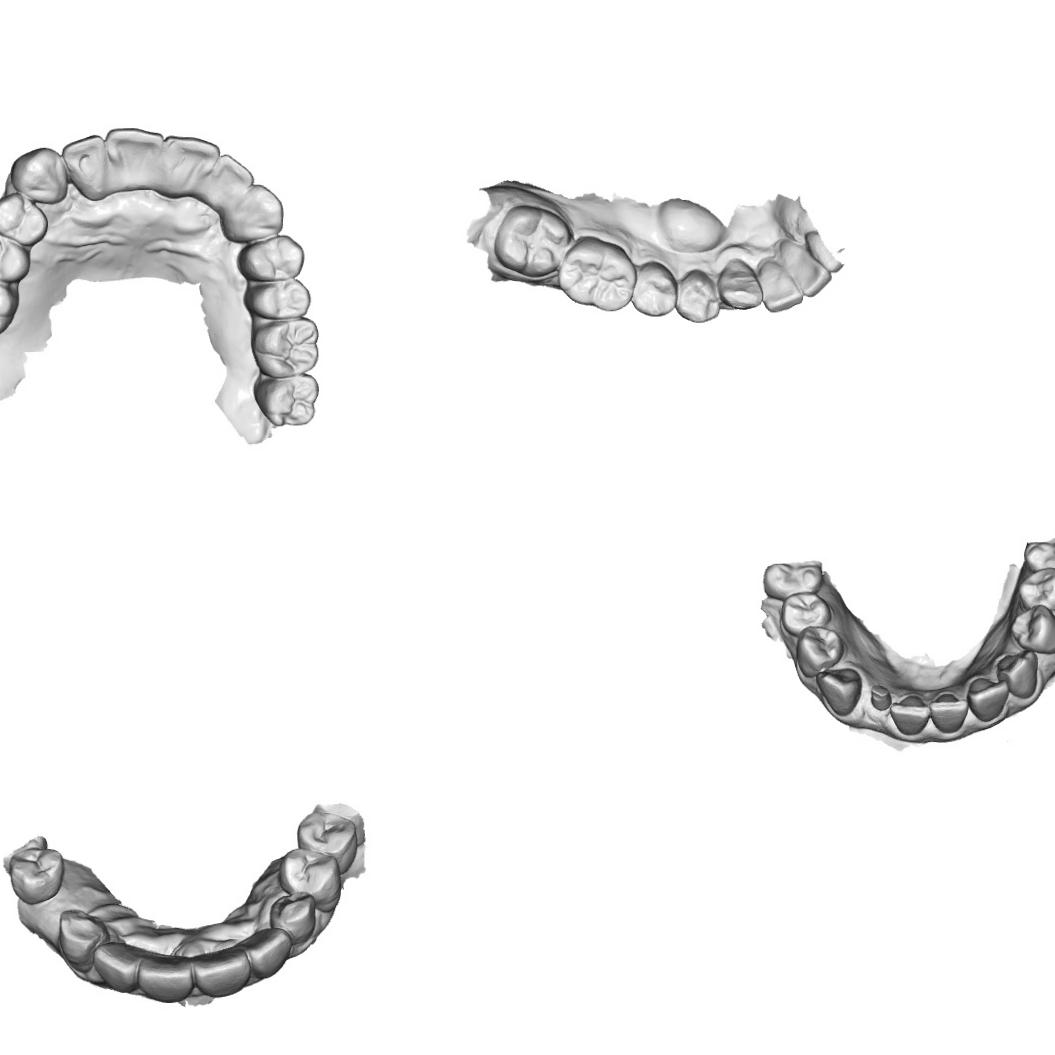abutment: (866, 681, 894, 714)
canine: (8, 145, 68, 206), (54, 907, 107, 968), (266, 892, 318, 948), (813, 664, 866, 718), (234, 182, 284, 238), (993, 648, 1042, 702), (717, 256, 764, 312)
incisor: (104, 124, 165, 192), (163, 132, 221, 199), (134, 947, 196, 1005), (236, 926, 294, 984), (192, 944, 252, 1000), (778, 243, 834, 301), (60, 134, 107, 202), (92, 938, 144, 996), (885, 685, 936, 742), (758, 256, 804, 316), (965, 674, 1014, 724), (210, 152, 256, 202), (925, 687, 970, 736)
molar: (554, 232, 640, 314), (491, 201, 576, 278), (248, 316, 320, 379), (252, 371, 321, 428), (761, 558, 827, 600), (1021, 533, 1055, 576), (0, 270, 20, 339)
premolar: (292, 809, 361, 876), (274, 846, 344, 909), (5, 844, 66, 908), (236, 232, 306, 282), (626, 258, 682, 318), (792, 623, 846, 680), (673, 266, 724, 326), (777, 588, 835, 640), (242, 278, 312, 320), (1005, 601, 1055, 657), (0, 192, 49, 247), (1015, 566, 1055, 613), (0, 229, 31, 283)
